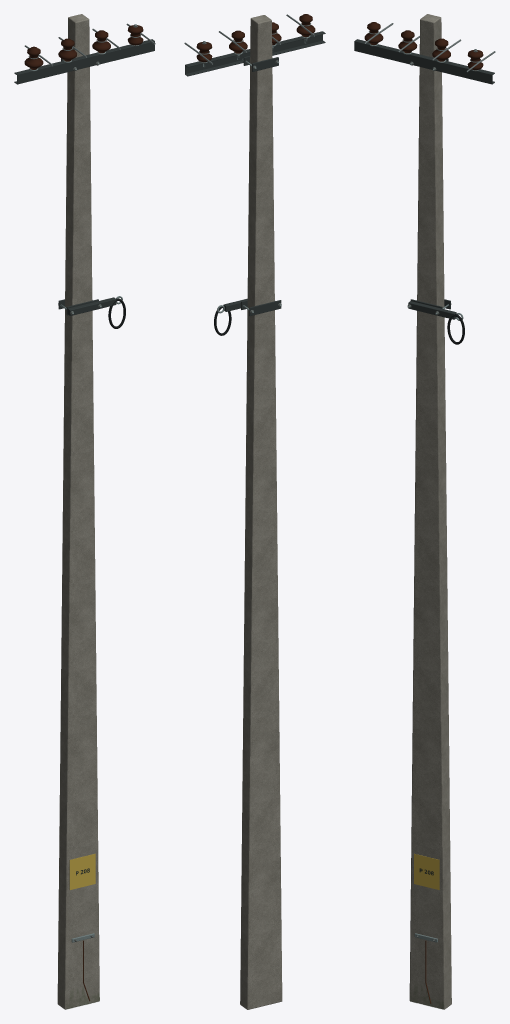
The picture shows the model from 3 angles, left to right: view 1: azimuth 30°, elevation 25°; view 2: azimuth 210°, elevation 25°; view 3: azimuth 330°, elevation 25°; orthographic projection.
Visible parts, largest first — view 1: TF3_KR_U01; view 2: TF3_KR_U01; view 3: TF3_KR_U01.
Part boxes in pixels (x1,y1,x2,y2): TF3_KR_U01: (14, 14, 155, 1009); TF3_KR_U01: (184, 14, 325, 1009); TF3_KR_U01: (354, 14, 495, 1009).
Bounding box in the file's own units: 1.1 × 7.5 × 0.3802.
11 materials, 3 textured.
